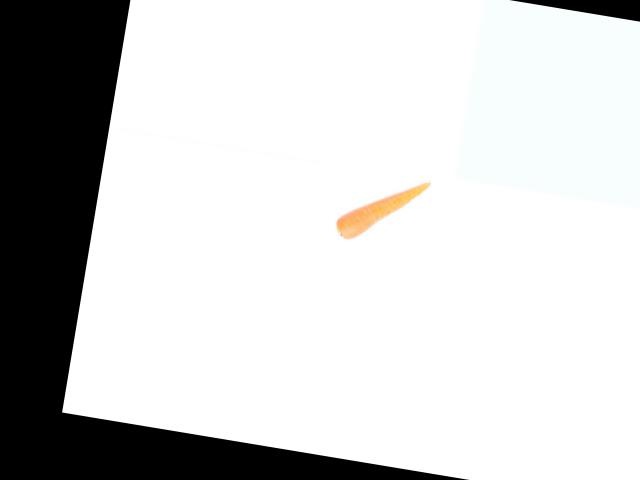carrot: (332, 162, 437, 253)
